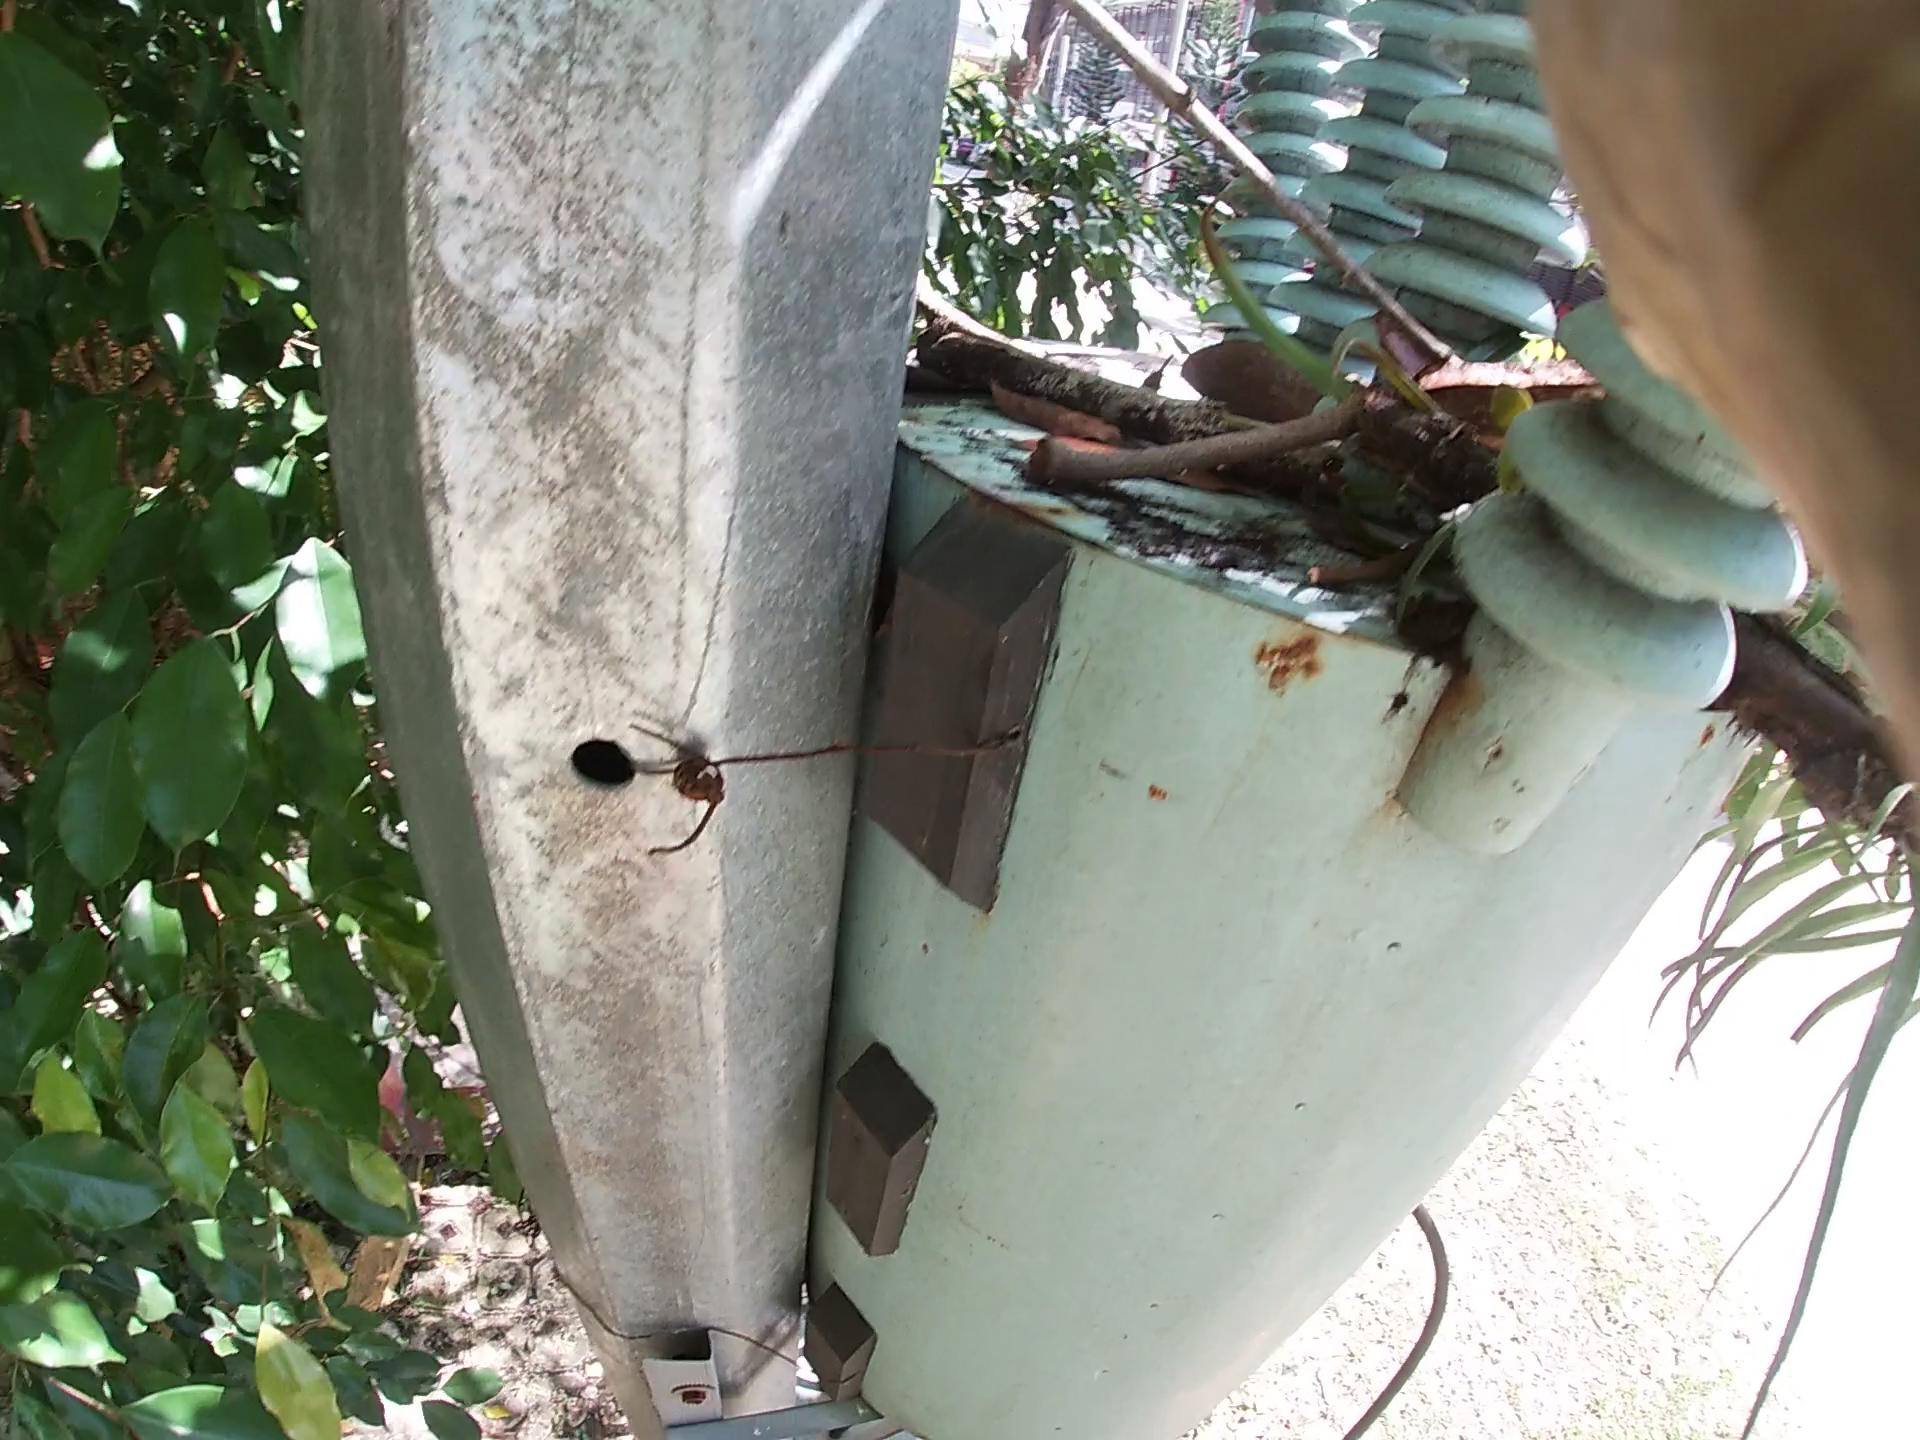branch with leaves: (974, 312, 1866, 791)
leaf: (957, 369, 1157, 532)
mahogany fruit: (1138, 284, 1411, 446), (1374, 315, 1572, 464)
tree branch: (1085, 15, 1383, 352), (1048, 405, 1336, 493)
